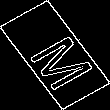M_NE: (16, 22, 94, 88)
